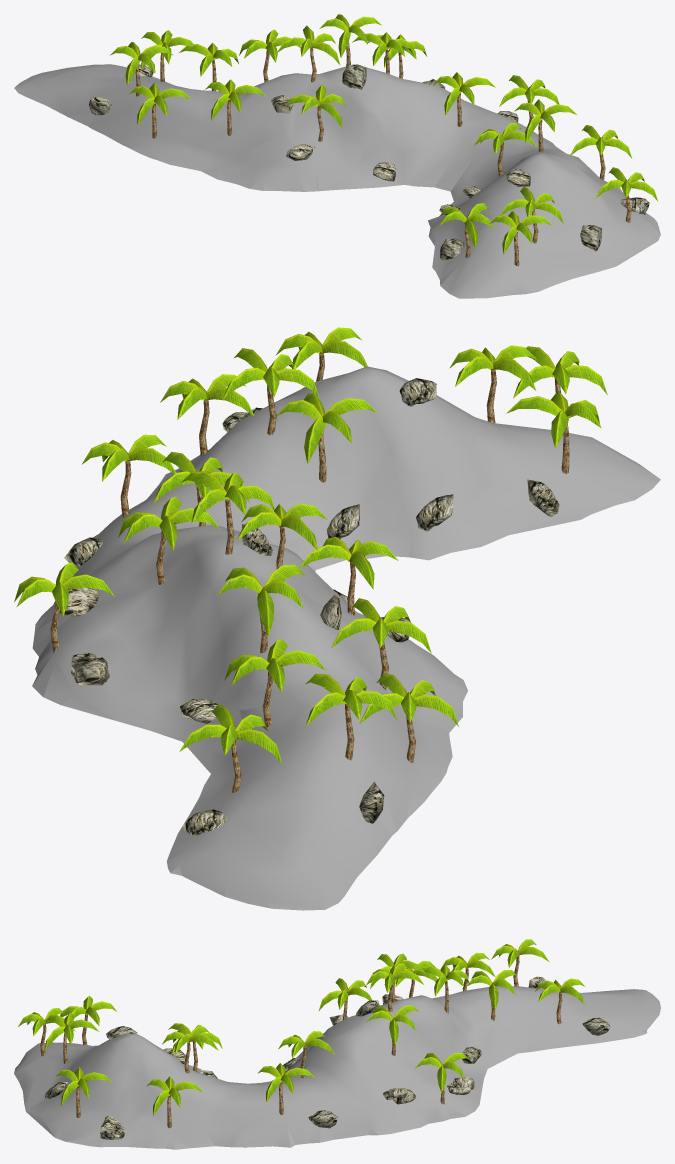
Rendered from island_09.fbx.
3 views of the same model, one above another, from view 1: azimuth 30°, elevation 25°; view 2: azimuth 150°, elevation 25°; view 3: azimuth 270°, elevation 25° (orthographic). The views are drawn at different scales.
Parts seen in each view (by area): view 1: island_09; view 2: island_09; view 3: island_09.
Boxes of the visible parts, x1=… form: island_09: x1=14, y1=14, x2=660, y2=298; island_09: x1=14, y1=327, x2=660, y2=910; island_09: x1=14, y1=939, x2=660, y2=1149.
Bounding box in the file's own units: 47.22 × 15.79 × 80.05.
